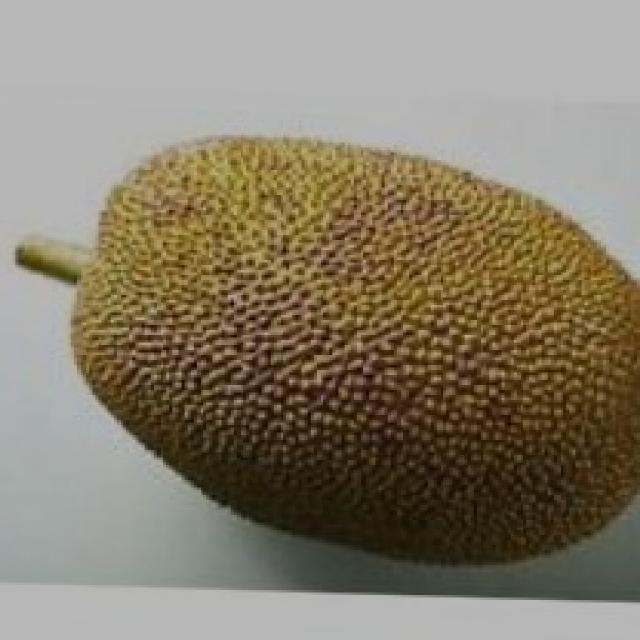Fruit: (261, 197, 640, 580)
